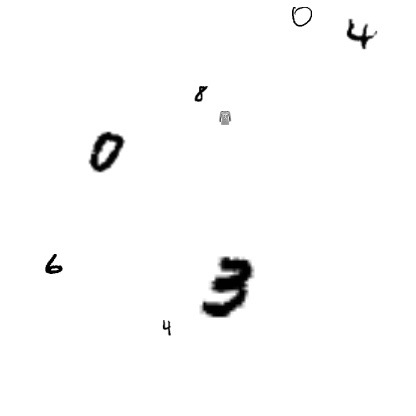0: (77, 122, 133, 178), (286, 2, 314, 30)
3: (185, 245, 269, 329)
4: (338, 13, 380, 55), (156, 316, 178, 338)
6: (38, 252, 66, 280)
8: (189, 82, 211, 104)
T-shirt/top: (218, 111, 232, 125)
